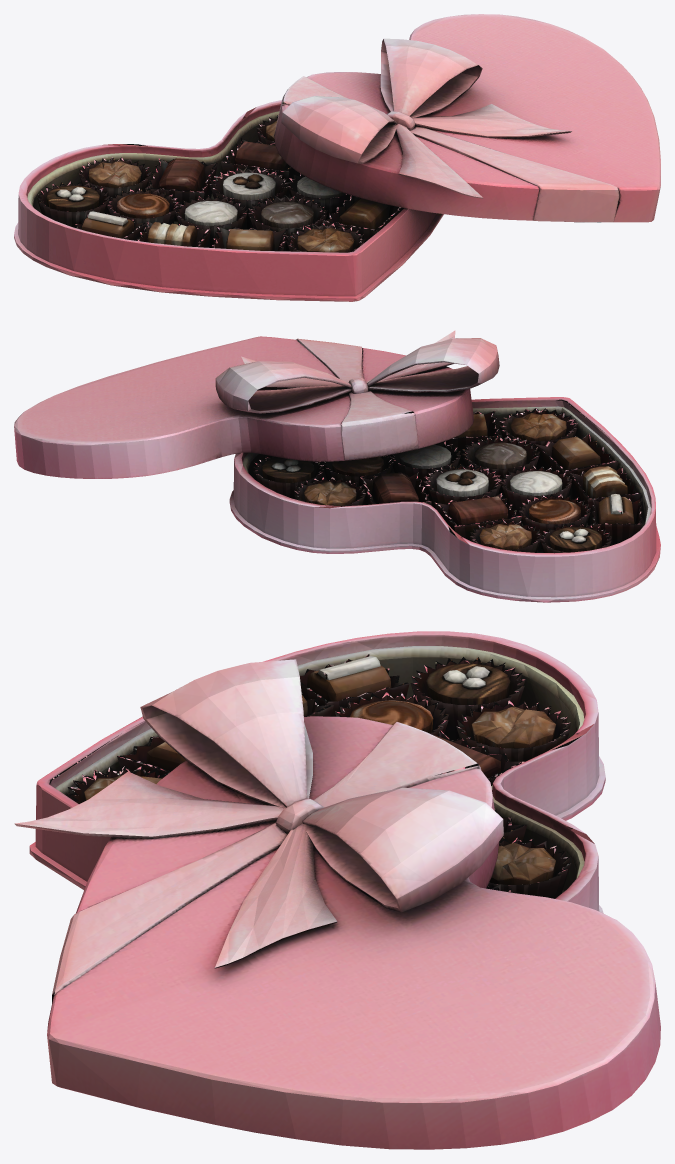
The model's file is Chocolate+Box.fbx.
3 renders of one model, top to bottom at view 1: azimuth 30°, elevation 25°; view 2: azimuth 150°, elevation 25°; view 3: azimuth 270°, elevation 25°, orthographic. The views are drawn at different scales.
Parts seen in each view (by area): view 1: skp83BD1; view 2: skp83BD1; view 3: skp83BD1.
Part boxes in pixels (x1,y1,x2,y2): skp83BD1: (14,14,660,301); skp83BD1: (14,330,660,602); skp83BD1: (14,631,660,1149).
Size of the model in its own units: 18.09 by 3.85 by 10.67.
